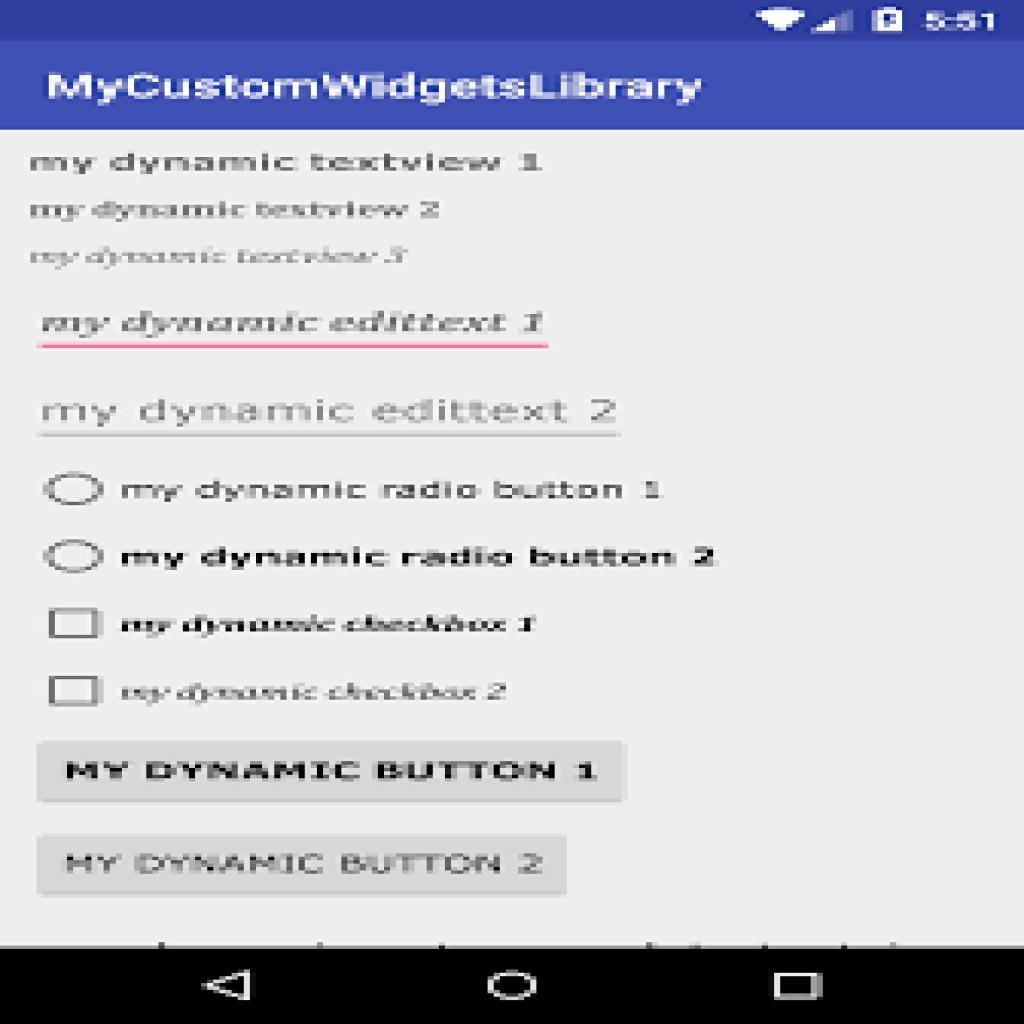button: (40, 741, 625, 801), (38, 834, 565, 896)
checkbox: (49, 609, 106, 641), (50, 675, 104, 707)
radio: (42, 538, 109, 578), (40, 474, 110, 507)
